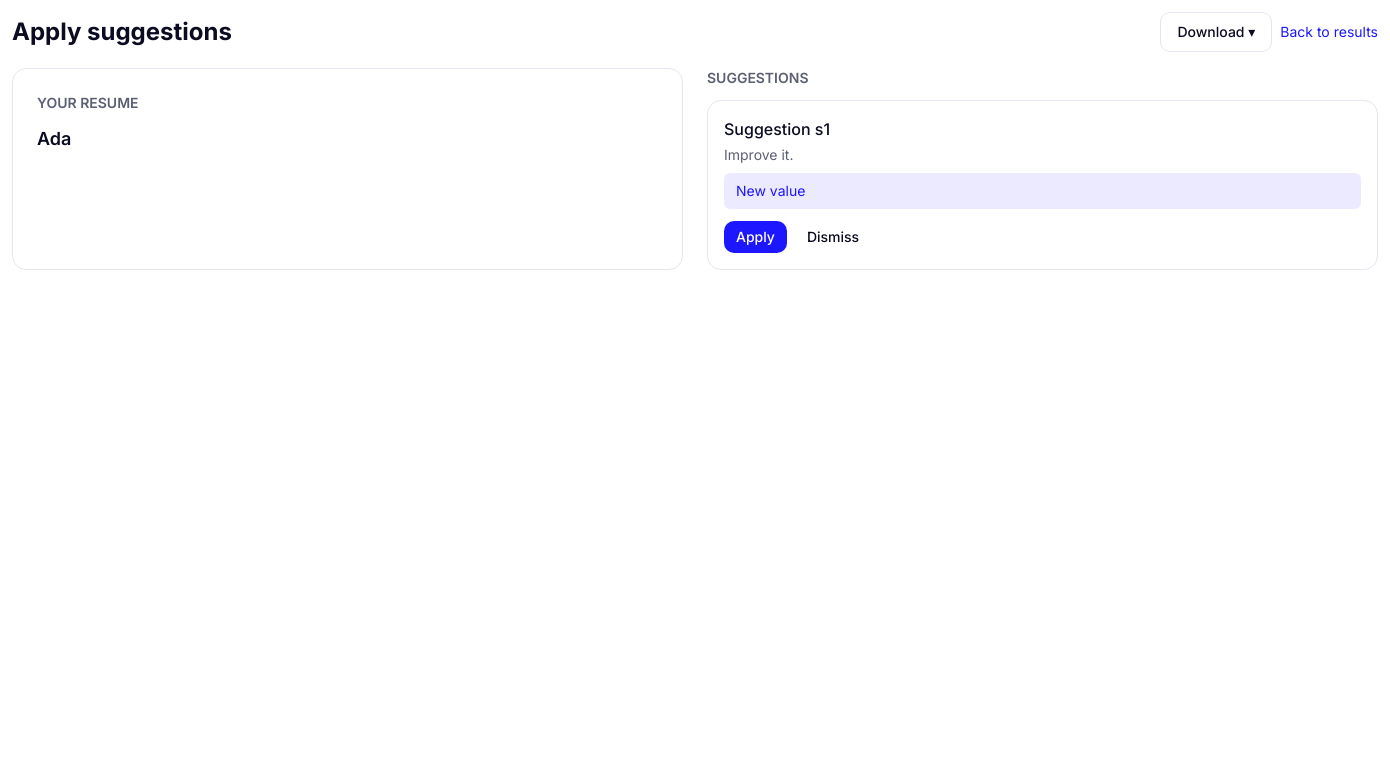
Scenario: ApplySuggestionsPage › applies a suggestion and reflects the applied state
Check: the text "Suggestion s1" is shown, box [724, 119, 830, 139]
Click the button "Apply" at (755, 237), box [724, 221, 787, 253]
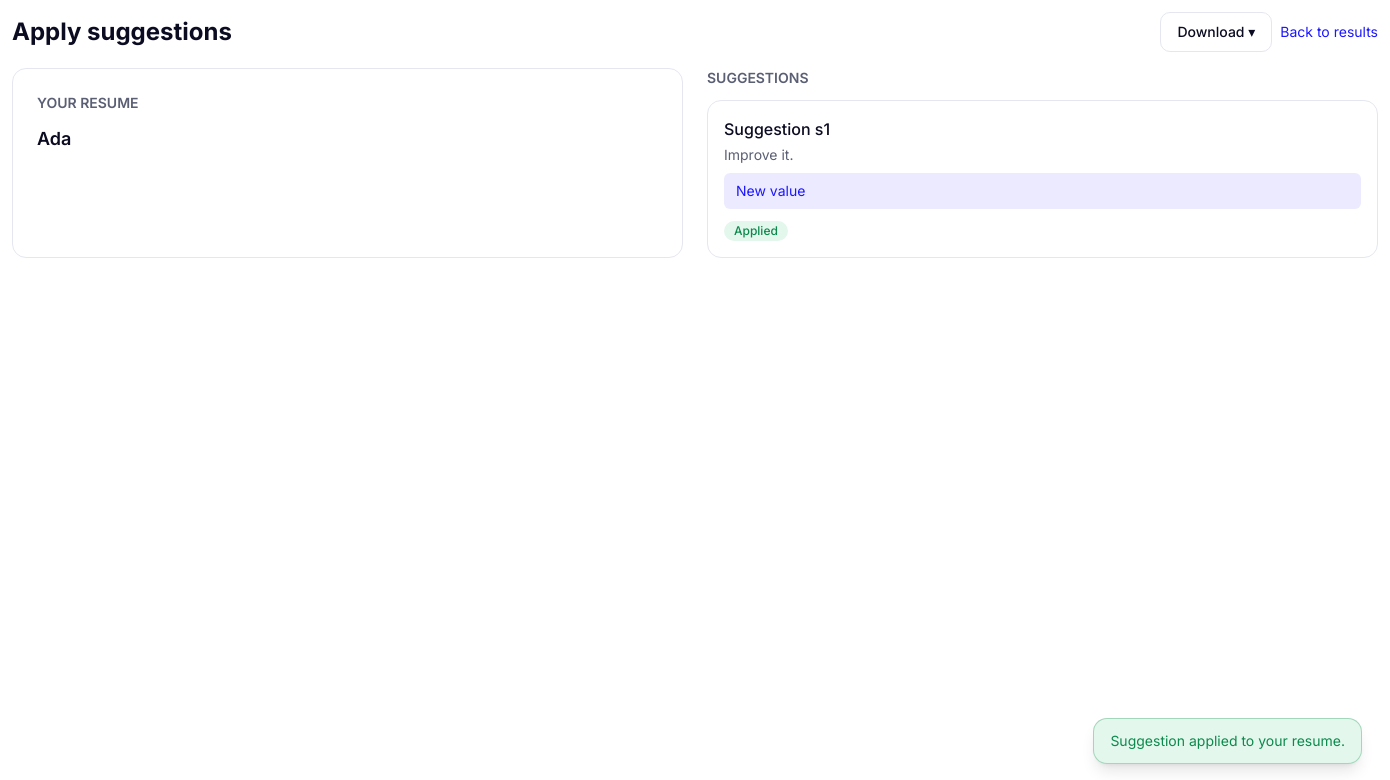
Check: the text "Applied" is shown, box [724, 221, 788, 241]
